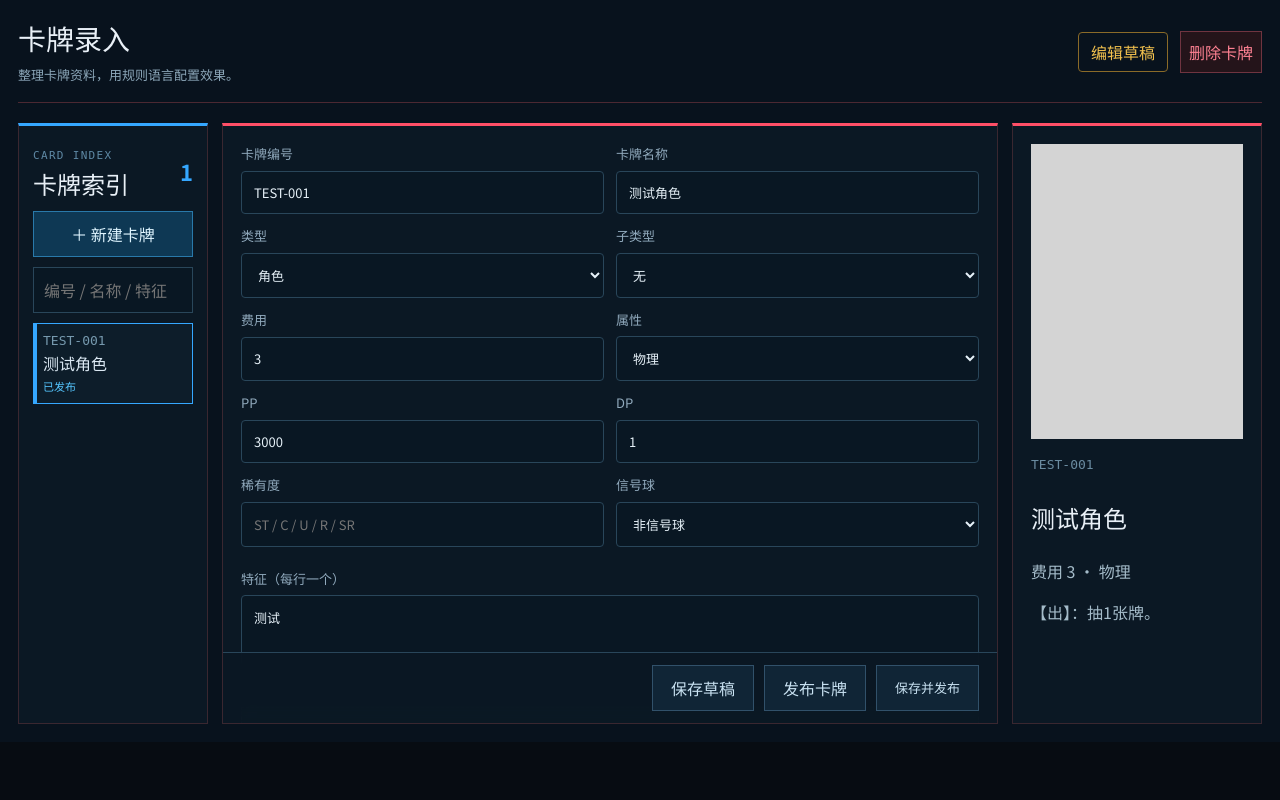
card platform screens › requires confirmation, supports cancellation and clears selection after deleting
Click the button "删除卡牌" at coordinates (1221, 52), box [1180,31,1262,73]
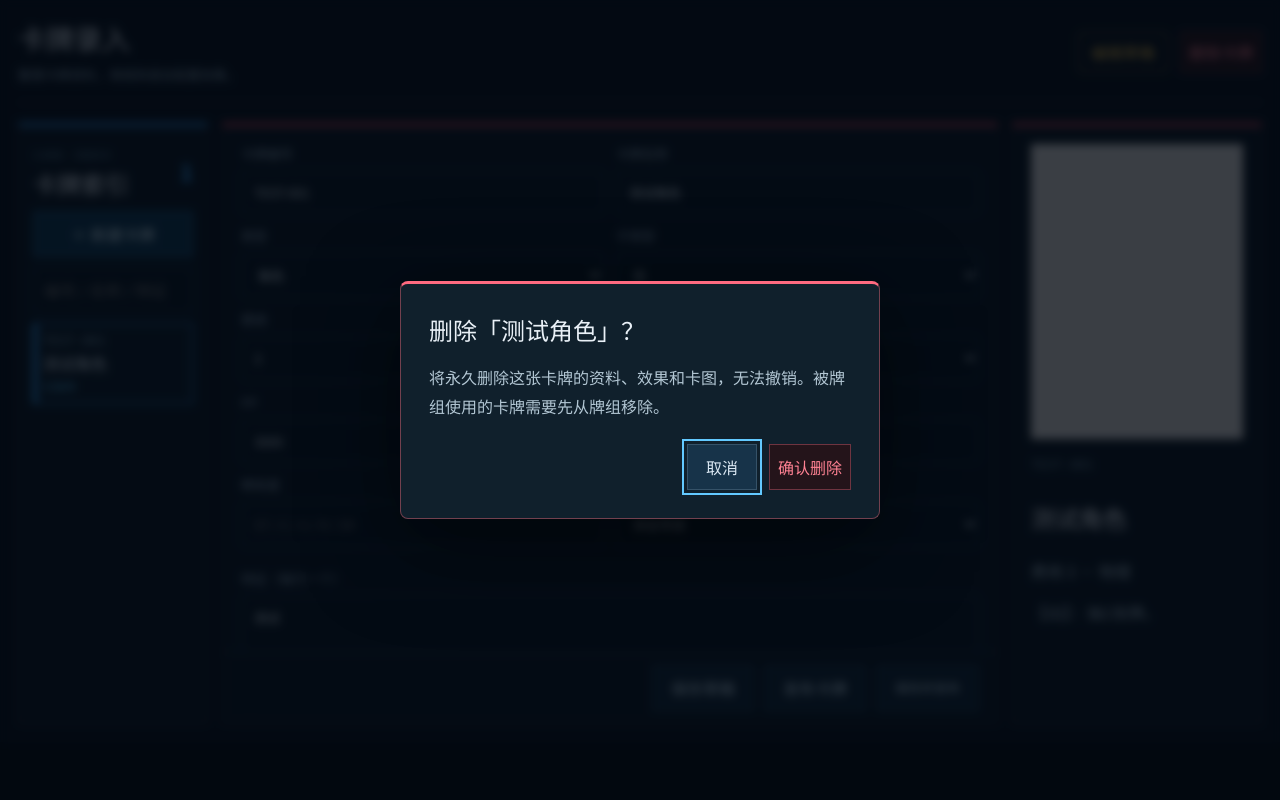
Result: the dialog is shown at [400,281,880,519]
Click the button "取消" at coordinates (722, 467), box [687,444,757,490]
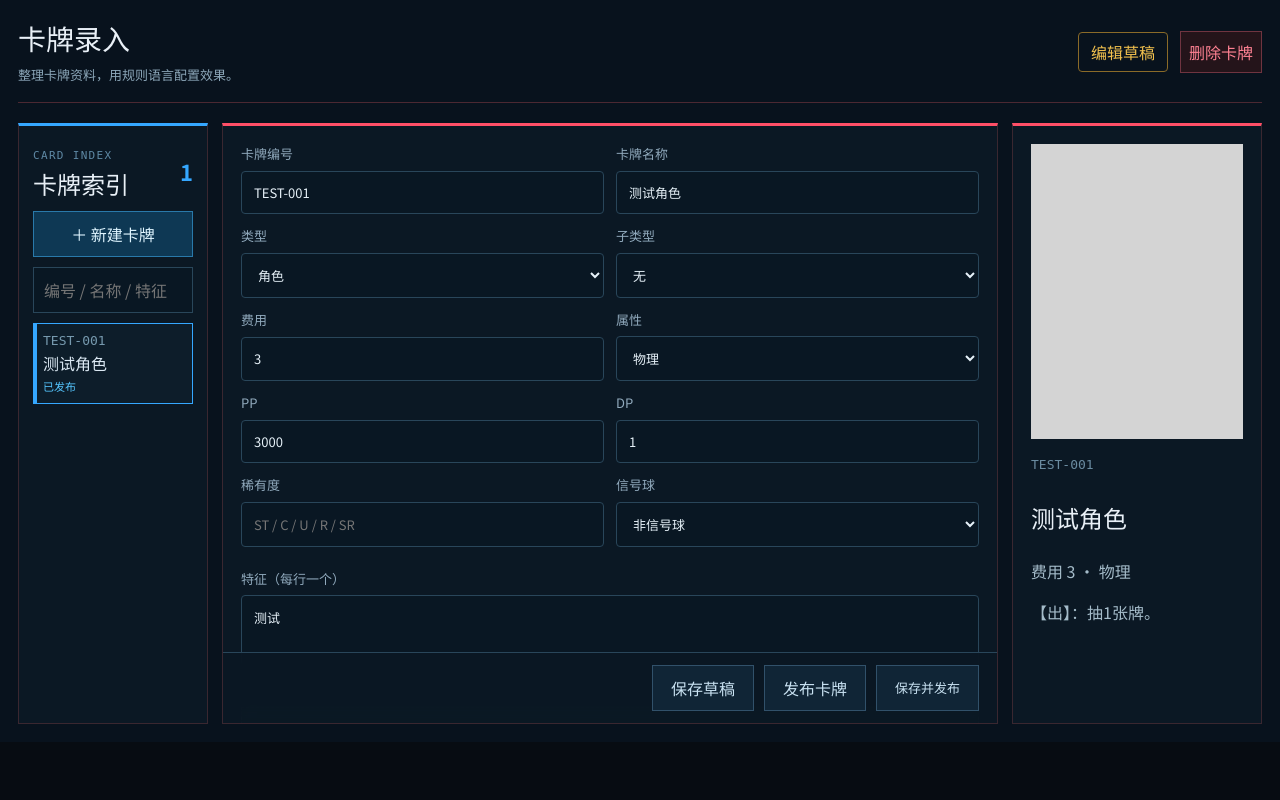
Click the button "删除卡牌" at coordinates (1221, 52), box [1180,31,1262,73]
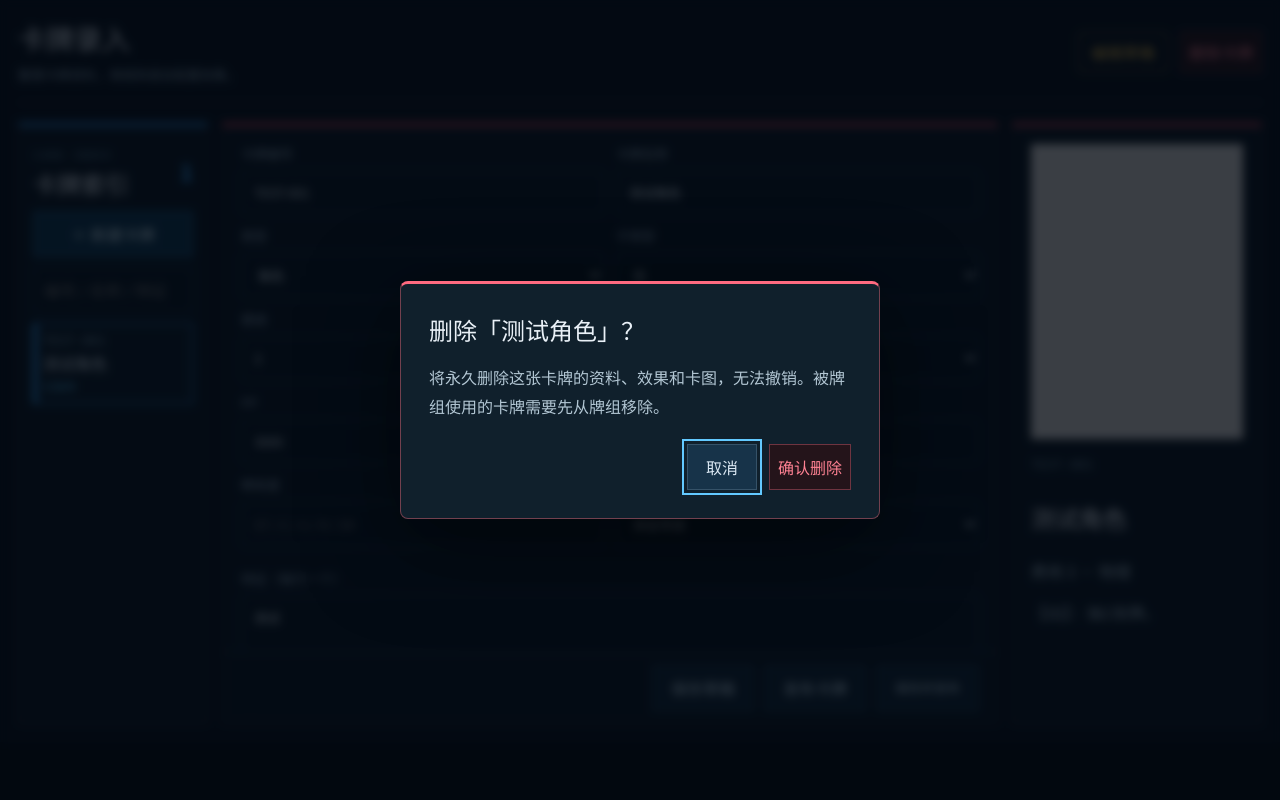
Click the button "确认删除" at coordinates (810, 467), box [769,444,851,490]
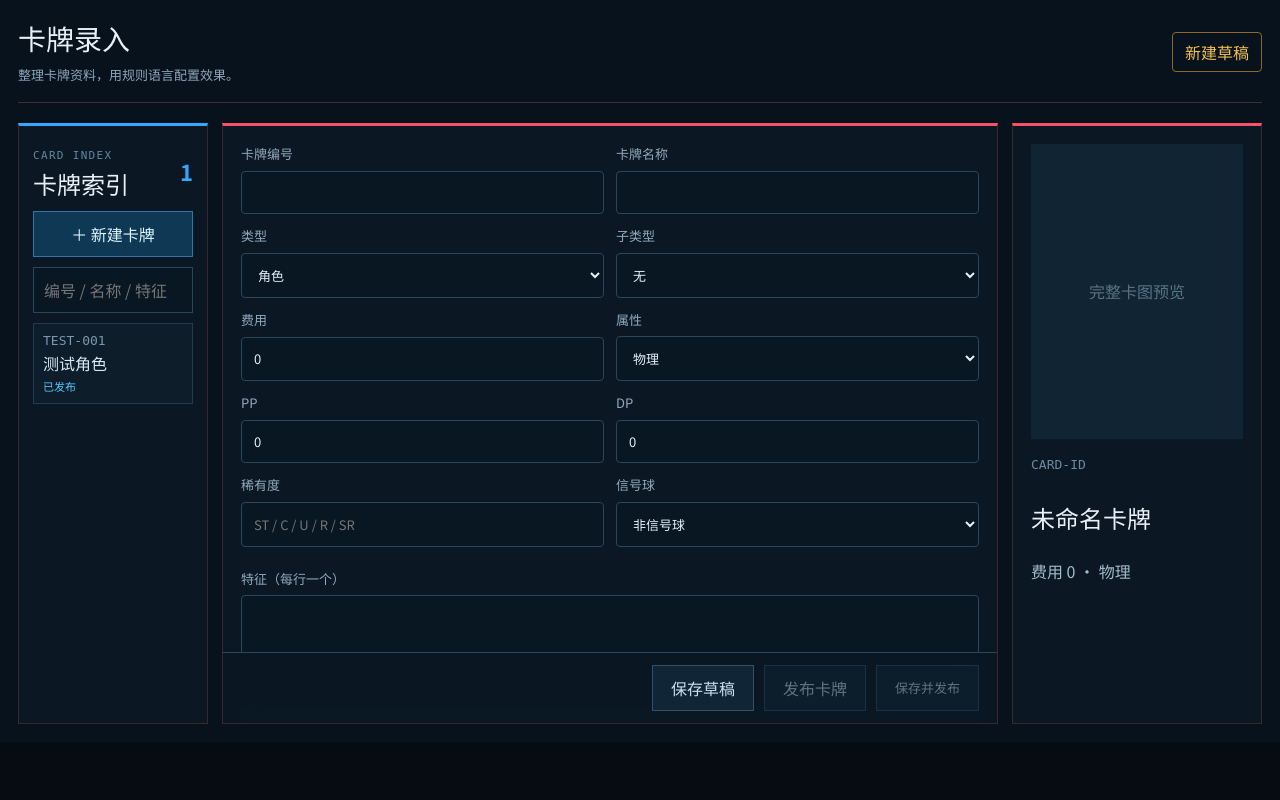
Result: the text "新建草稿" is shown at [1172,32,1262,72]
